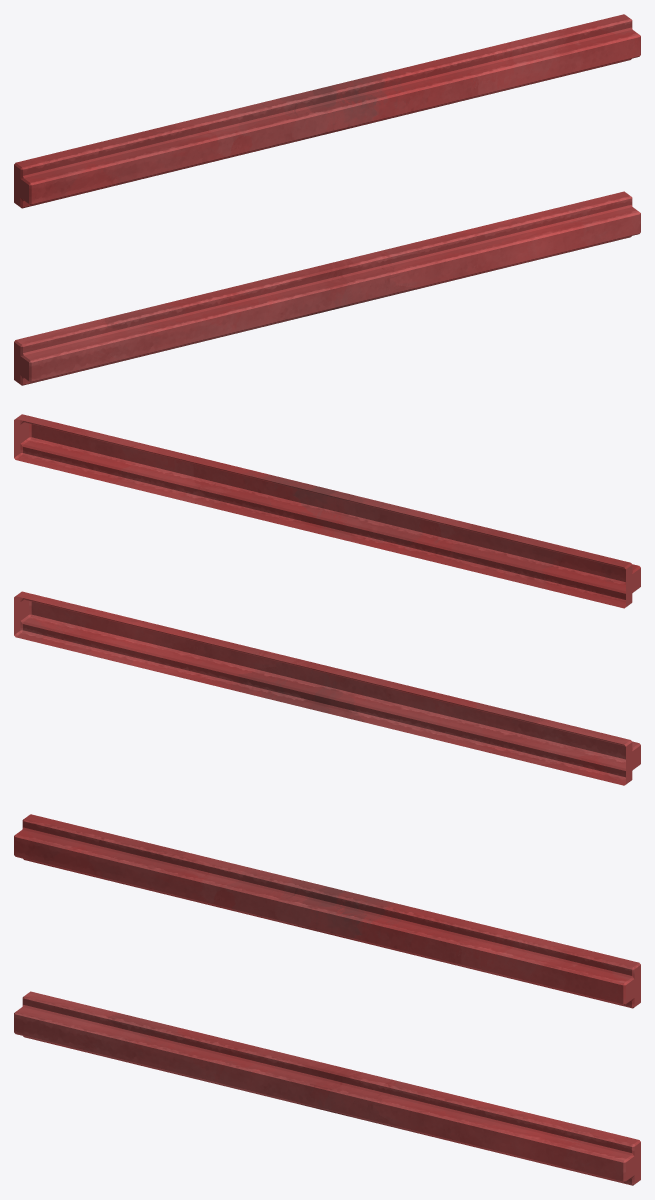
Rendered from Wooden slats.fbx.
The picture shows the model from 3 angles, top to bottom: view 1: azimuth 30°, elevation 25°; view 2: azimuth 150°, elevation 25°; view 3: azimuth 330°, elevation 25°; orthographic projection.
Visible parts, largest first — view 1: Wooden slats; view 2: Wooden slats; view 3: Wooden slats.
Part boxes in pixels (box(x1,y1,x2,y2)): Wooden slats: box(14, 14, 640, 385); Wooden slats: box(14, 414, 640, 785); Wooden slats: box(14, 814, 640, 1185).
Size of the model in its own units: 200 by 68.2 by 9.05.
